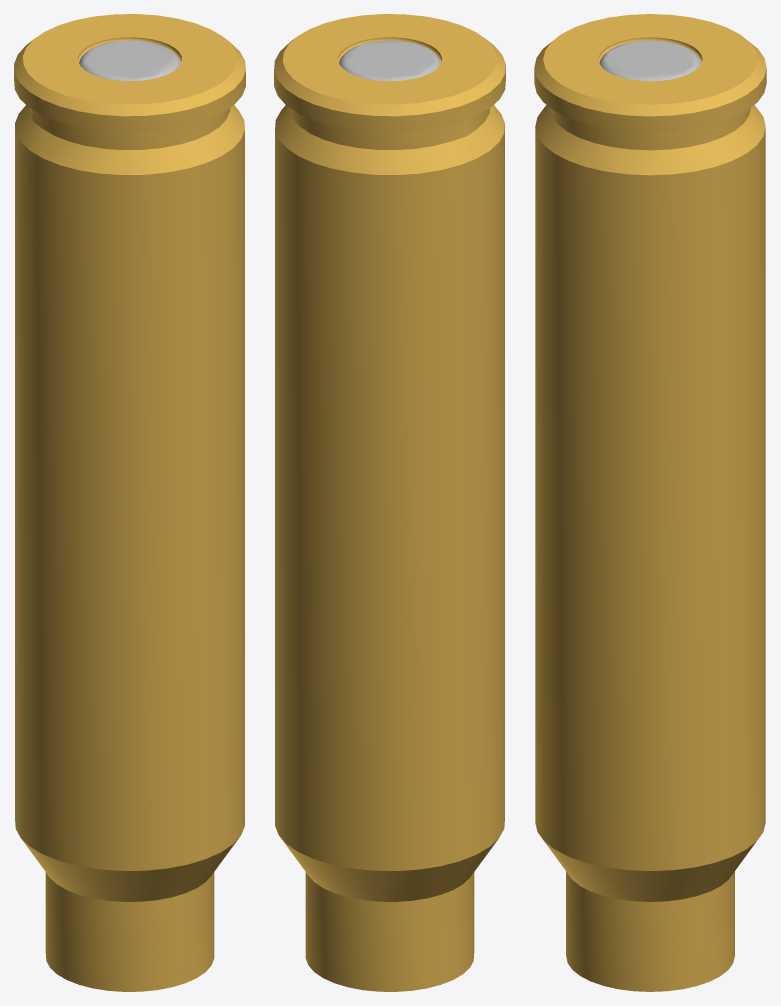
The model's file is 762NatoCasing.fbx.
The picture shows the model from 3 angles, left to right: view 1: azimuth 30°, elevation 25°; view 2: azimuth 150°, elevation 25°; view 3: azimuth 270°, elevation 25°; orthographic projection.
Parts seen in each view (by area): view 1: Cartridge; view 2: Cartridge; view 3: Cartridge.
Boxes of the visible parts, left/top/right/bottom form: Cartridge: left=14, top=14, right=245, bottom=991; Cartridge: left=274, top=14, right=505, bottom=991; Cartridge: left=534, top=14, right=766, bottom=991.
Bounding box in the file's own units: 0.012 × 0.0512 × 0.012.
